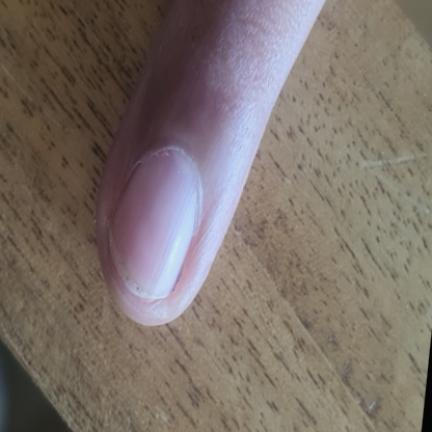Nail: (107, 149, 201, 299)
